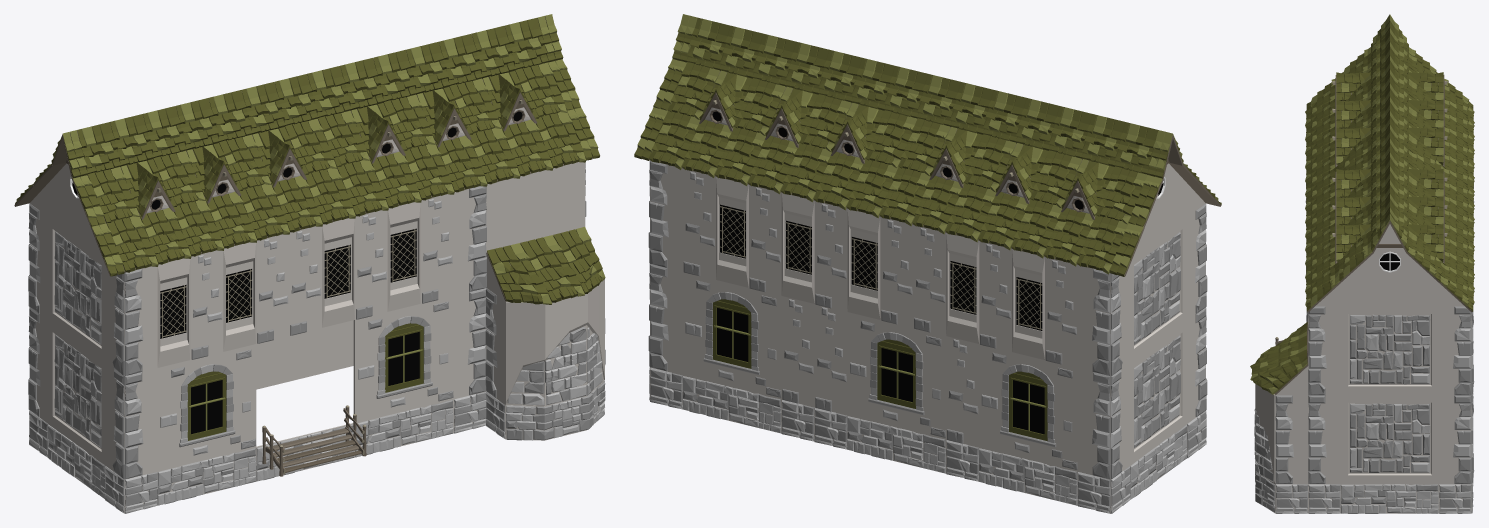
Rendered from HOUSE_3_PARTS.fbx.
The picture shows the model from 3 angles, left to right: view 1: azimuth 30°, elevation 25°; view 2: azimuth 150°, elevation 25°; view 3: azimuth 270°, elevation 25°; orthographic projection. The views are drawn at different scales.
Parts seen in each view (by area): view 1: WINDOW_05_12, WINDOW_05_13, BALKON_03_2, ROOF_base_round_2, WALL_02_2, WALL_02_3, FOUNDATION_01_2, WALL_05_2, WALL_06_5, WALL_06_2, WALL_05_6, WALL_07_5 (+76 smaller); view 2: WINDOW_05_15, WINDOW_05_14, WINDOW_05_16, WALL_02_2, WALL_02_3, WALL_06_16, WALL_06_14, WALL_06_15, WALL_06_11, WALL_06_9, WALL_06_10, WINDOW_04_9 (+71 smaller); view 3: WALL_02_4, WALL_02_5, WALL_05_7, WALL_07_7, WALL_05_10, FOUNDATION_03_9, WALL_07_8, WALL_05_9, ROOF_base_round_2, BALKON_03_2, ROOF_TRIAGLE_QUAD_9, FOUNDATION_02_7 (+87 smaller).
Boxes of the visible parts, x1,y1,x2,y2 form: WINDOW_05_12: (353,296,453,422); WINDOW_05_13: (157,344,256,470); BALKON_03_2: (505,279,604,405); ROOF_base_round_2: (486,226,605,304); WALL_02_2: (48,321,105,464); WALL_02_3: (48,217,105,361); FOUNDATION_01_2: (505,381,605,440); WALL_05_2: (124,368,157,479); WALL_06_5: (420,194,453,303); WALL_06_2: (190,250,223,359); WALL_05_6: (124,266,157,375); WALL_07_5: (453,186,486,295); WINDOW_05_15: (847,312,946,439); WINDOW_05_14: (979,344,1077,471); WINDOW_05_16: (683,272,781,398); WALL_02_2: (1130,321,1186,465); WALL_02_3: (1130,217,1186,361); WALL_06_16: (781,296,814,406); WALL_06_14: (946,336,979,447); WALL_06_15: (814,304,847,415); WALL_06_11: (814,201,847,311); WALL_06_9: (913,225,946,335); WALL_06_10: (880,216,913,327); WINDOW_04_9: (781,193,814,303); WALL_02_4: (1341,306,1438,395); WALL_02_5: (1341,395,1438,483); WALL_05_7: (1275,395,1308,483); WALL_07_7: (1439,306,1471,395); WALL_05_10: (1308,306,1340,395); FOUNDATION_03_9: (1341,484,1438,513); WALL_07_8: (1439,395,1471,483); WALL_05_9: (1308,395,1340,483); ROOF_base_round_2: (1250,322,1308,394); BALKON_03_2: (1254,384,1275,483); ROOF_TRIAGLE_QUAD_9: (1373,276,1406,306); FOUNDATION_02_7: (1275,484,1308,513).
Bounding box in the file's own units: 1491 × 1014 × 689.
